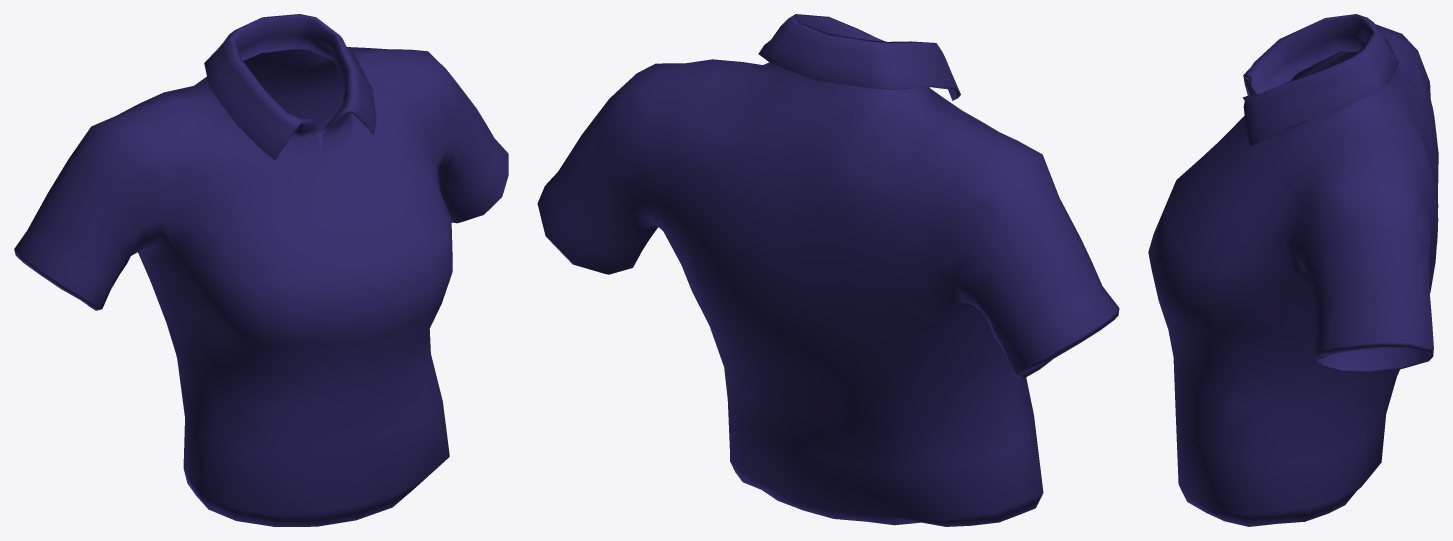
File: Shirt_F.fbx
3 views of the same model, side by side, from view 1: azimuth 30°, elevation 25°; view 2: azimuth 150°, elevation 25°; view 3: azimuth 270°, elevation 25° (orthographic). The views are drawn at different scales.
Parts seen in each view (by area): view 1: Shirt_F; view 2: Shirt_F; view 3: Shirt_F.
Part boxes in pixels (x1=…): Shirt_F: x1=14, y1=14, x2=508, y2=526; Shirt_F: x1=537, y1=14, x2=1119, y2=526; Shirt_F: x1=1148, y1=14, x2=1438, y2=526.
Bounding box in the file's own units: 47.61 × 41.78 × 24.33.
